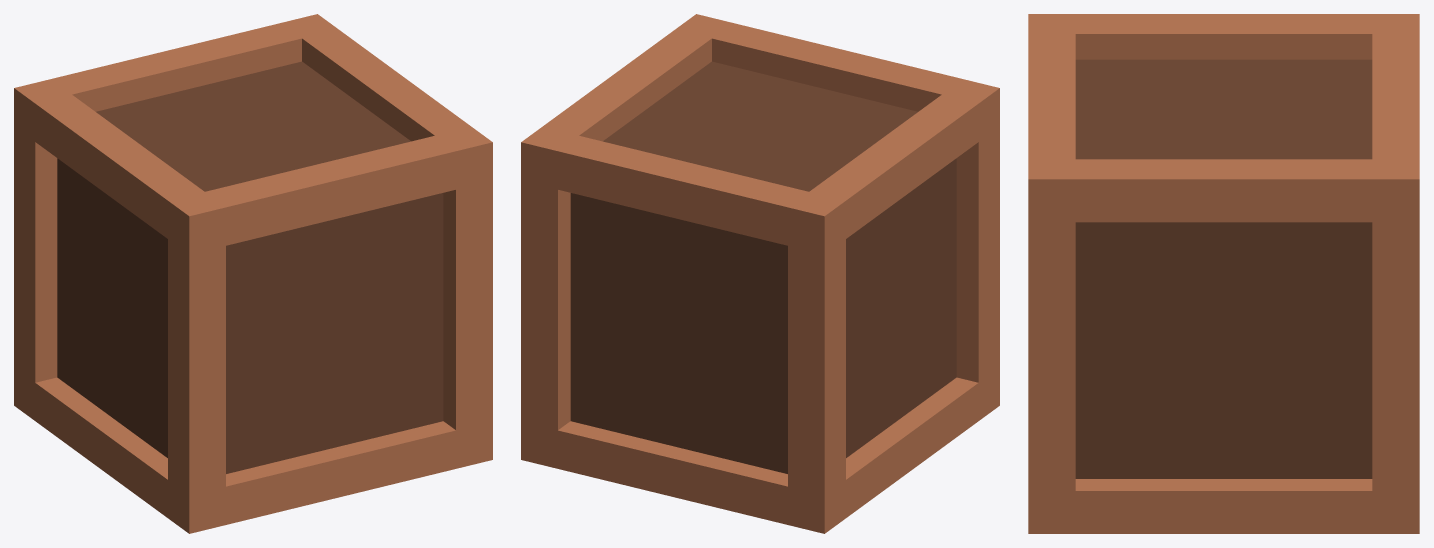
The model's file is Chest.fbx.
The picture shows the model from 3 angles, left to right: view 1: azimuth 30°, elevation 25°; view 2: azimuth 150°, elevation 25°; view 3: azimuth 270°, elevation 25°; orthographic projection. The views are drawn at different scales.
Parts seen in each view (by area): view 1: Chest; view 2: Chest; view 3: Chest.
Boxes of the visible parts, bbox=[...] form: Chest: bbox=[14, 14, 492, 533]; Chest: bbox=[521, 14, 999, 533]; Chest: bbox=[1028, 14, 1419, 533].
Bounding box in the file's own units: 200 × 200 × 200.
Materials: 1 (1 with a texture image).
